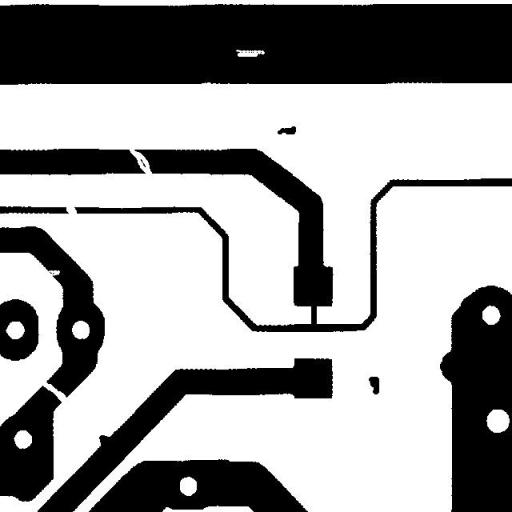copper: (361, 368, 386, 402), (270, 118, 303, 142)
mousebite: (39, 262, 67, 284)
open: (122, 140, 159, 182), (34, 374, 74, 410), (58, 196, 84, 222)
pin-hole: (228, 42, 272, 64)
short: (303, 294, 324, 336)
spur: (91, 427, 118, 456)
